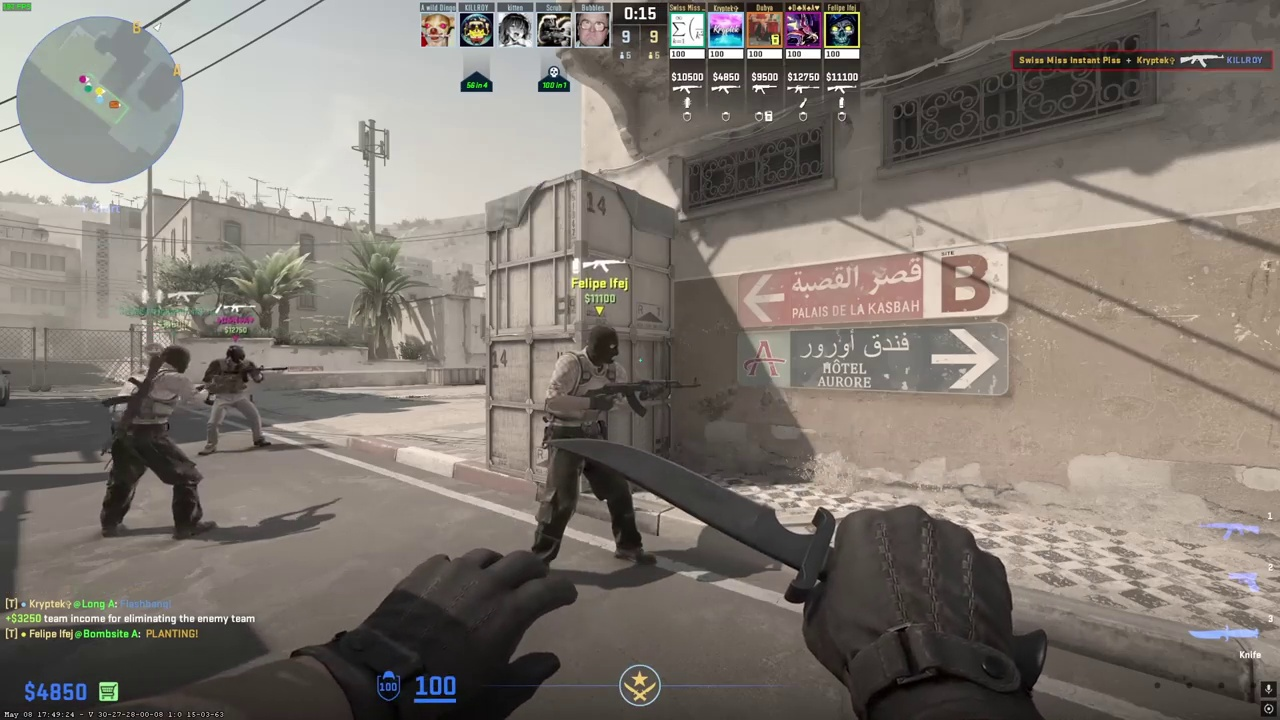Terrorist: (533, 325, 656, 570), (102, 344, 206, 544), (196, 345, 271, 455)
